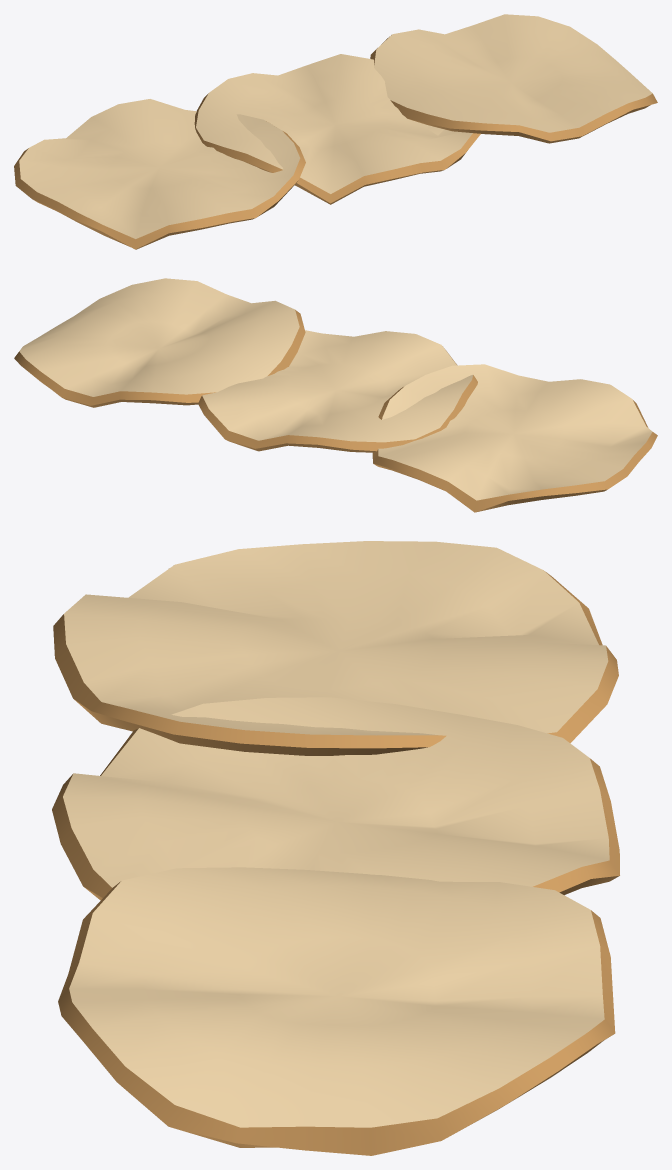
Rendered from Food_Turkey.fbx.
3 renders of one model, top to bottom at view 1: azimuth 30°, elevation 25°; view 2: azimuth 150°, elevation 25°; view 3: azimuth 270°, elevation 25°, orthographic. The views are drawn at different scales.
Visible parts, largest first — view 1: Meat, MeatEdge; view 2: Meat, MeatEdge; view 3: Meat, MeatEdge.
Boxes of the visible parts, left/top/right/bottom form: Meat: left=19, top=14, right=652, bottom=238; MeatEdge: left=14, top=35, right=657, bottom=249; Meat: left=19, top=278, right=652, bottom=500; MeatEdge: left=14, top=310, right=657, bottom=512; Meat: left=63, top=541, right=609, bottom=1127; MeatEdge: left=52, top=571, right=619, bottom=1155.
Size of the model in its own units: 222 by 14.93 by 92.72.
